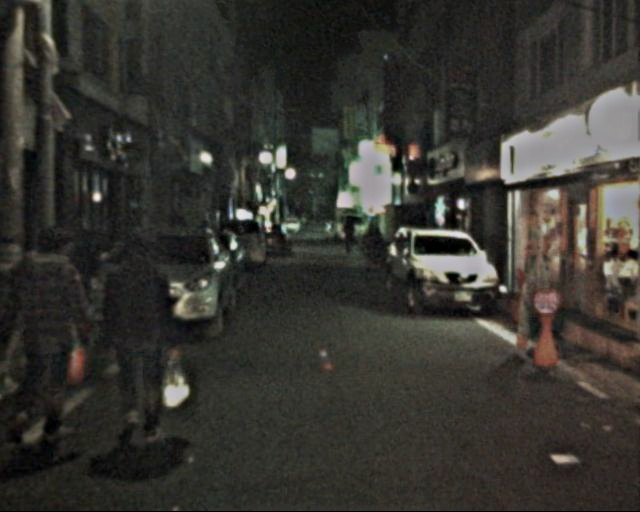person: (2, 218, 98, 451), (95, 231, 185, 452), (341, 216, 360, 257)
